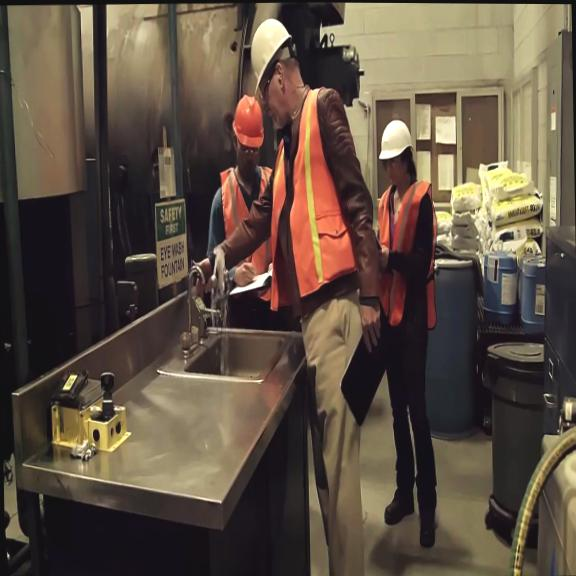safety_vest: (263, 79, 361, 316), (376, 179, 441, 326), (217, 165, 274, 303)
